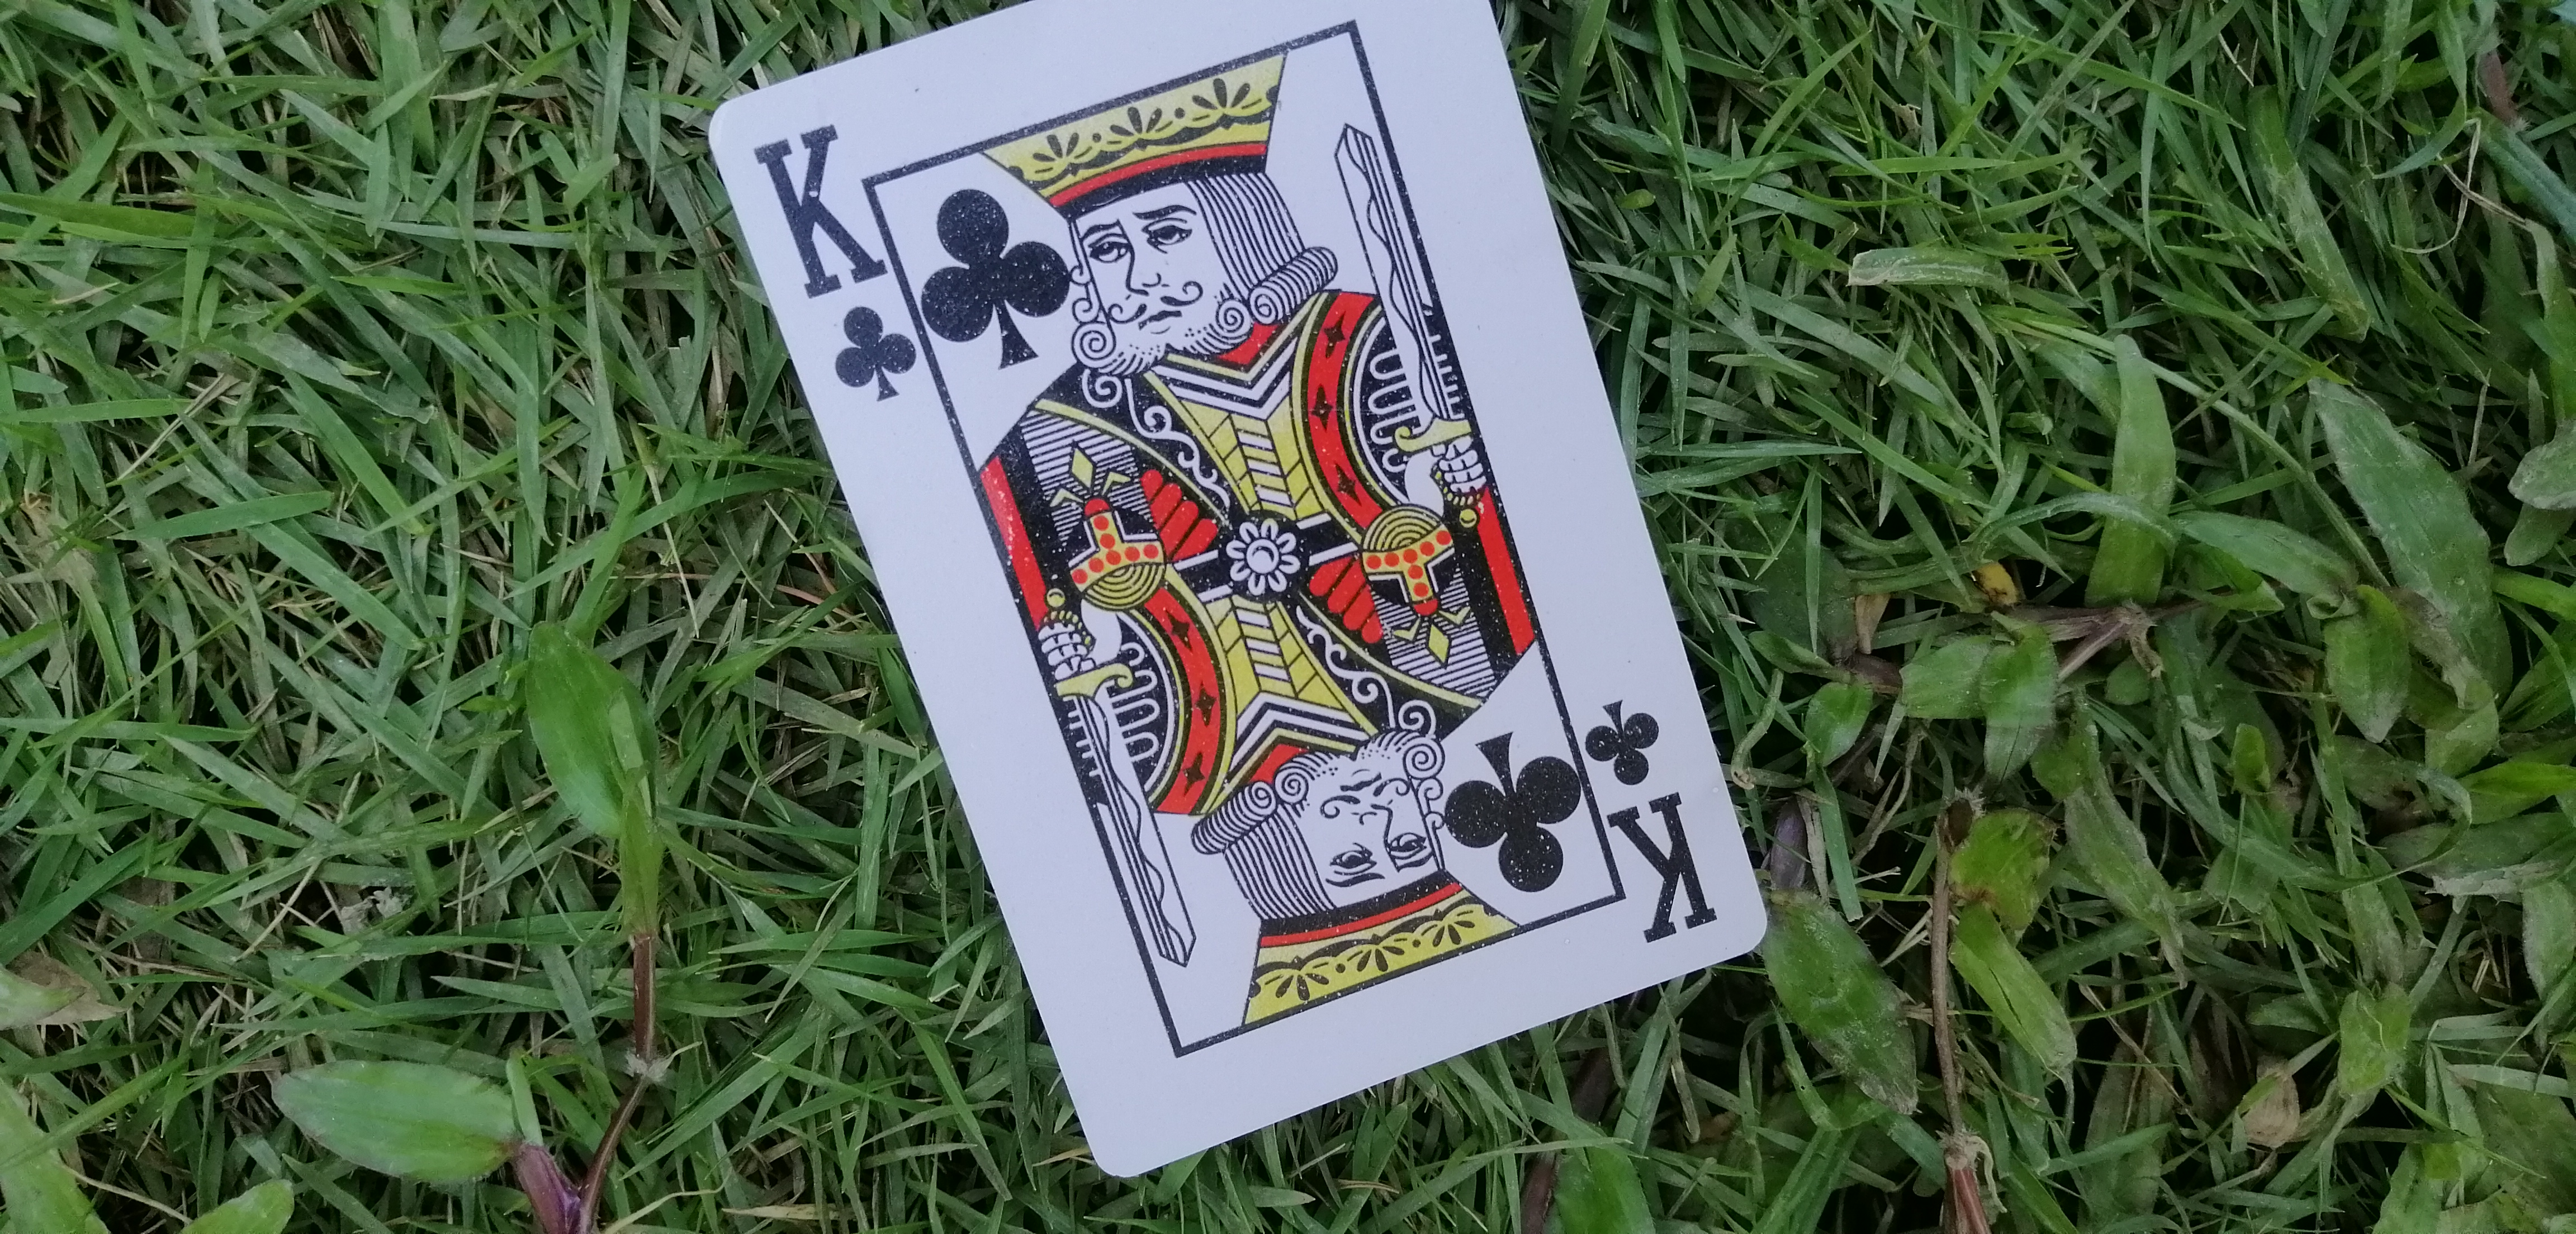king: (680, 10, 1789, 1178)
